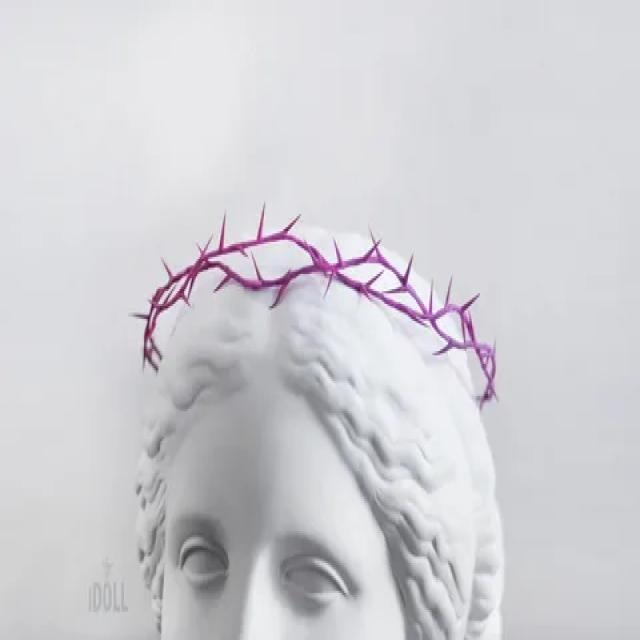crown: (130, 204, 502, 401)
